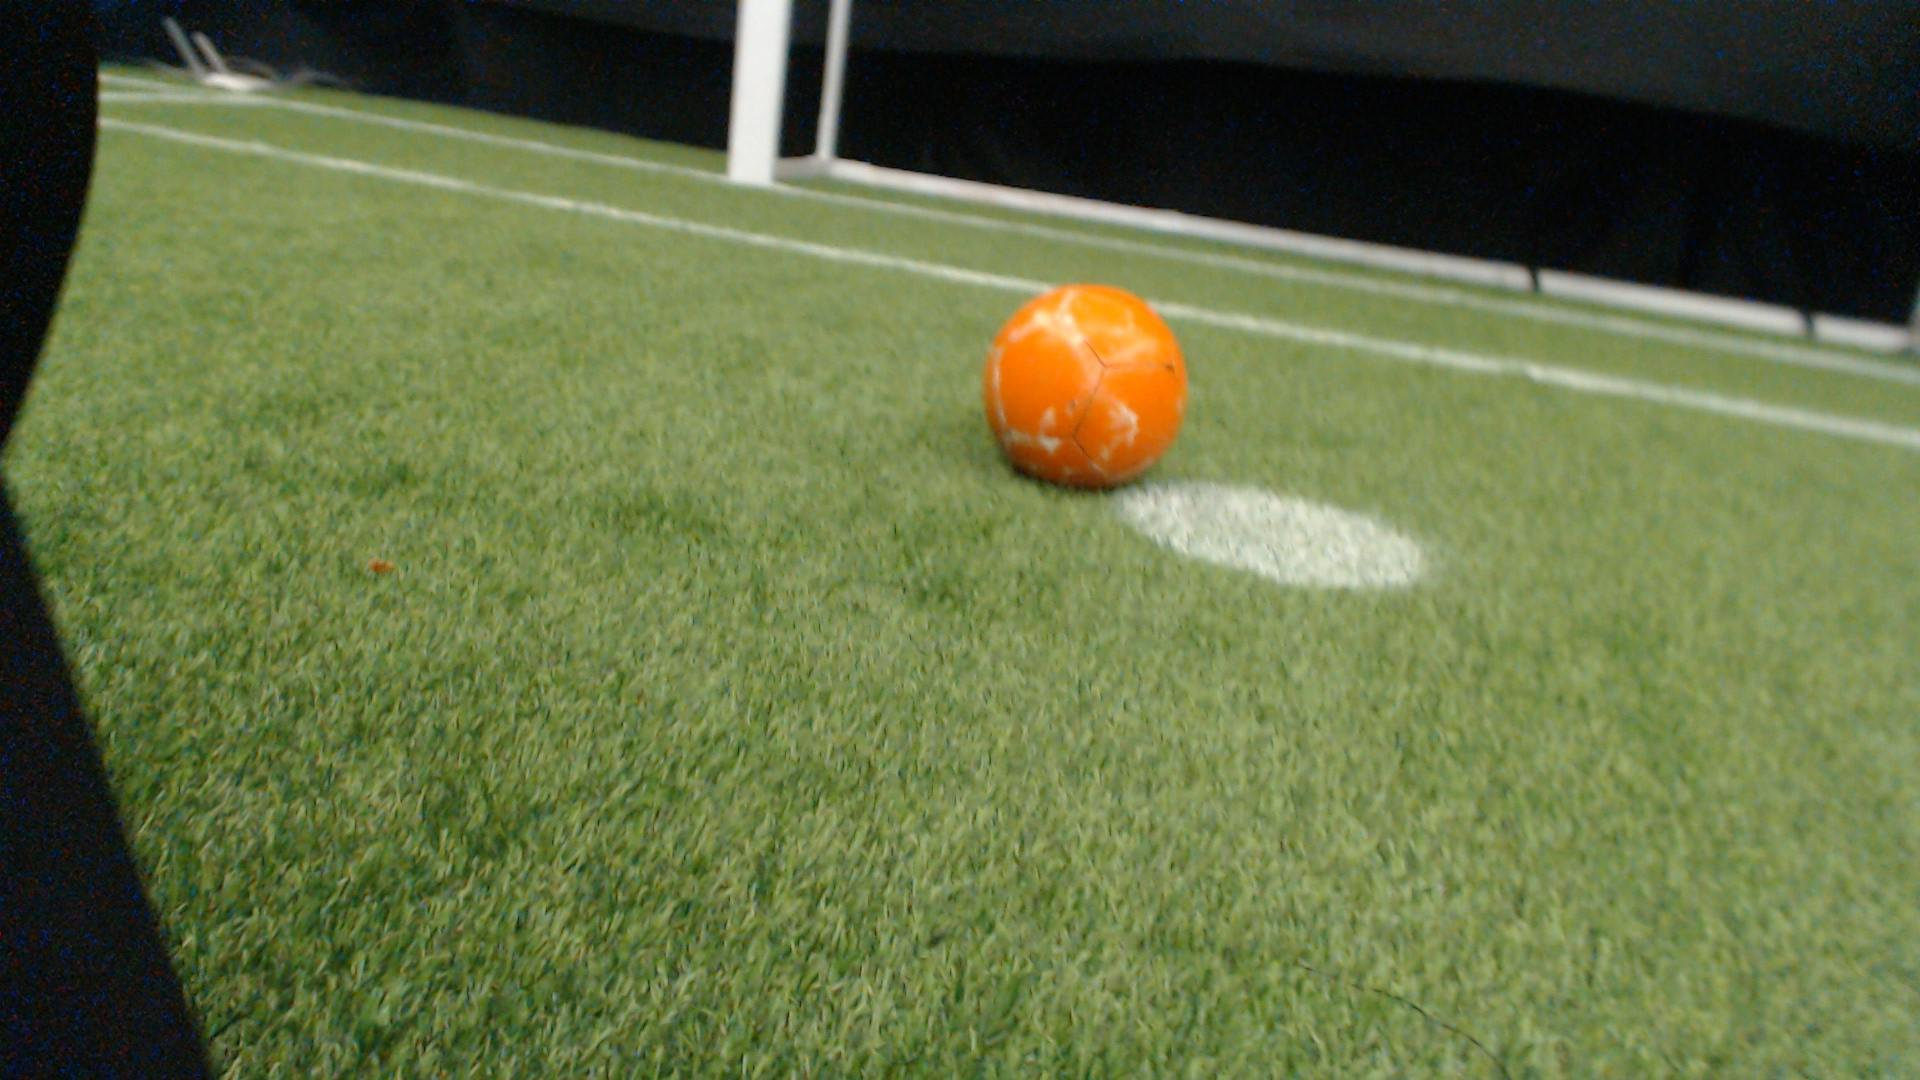bola: (968, 273, 1212, 520)
